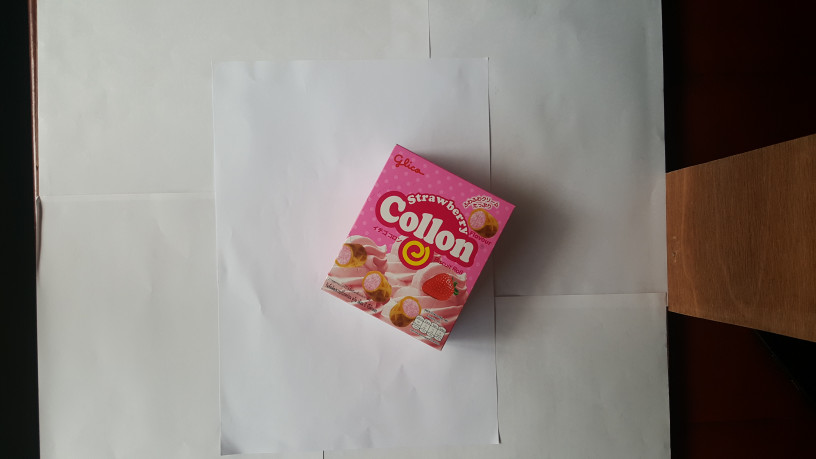collon-strawberry: (319, 140, 515, 353)
